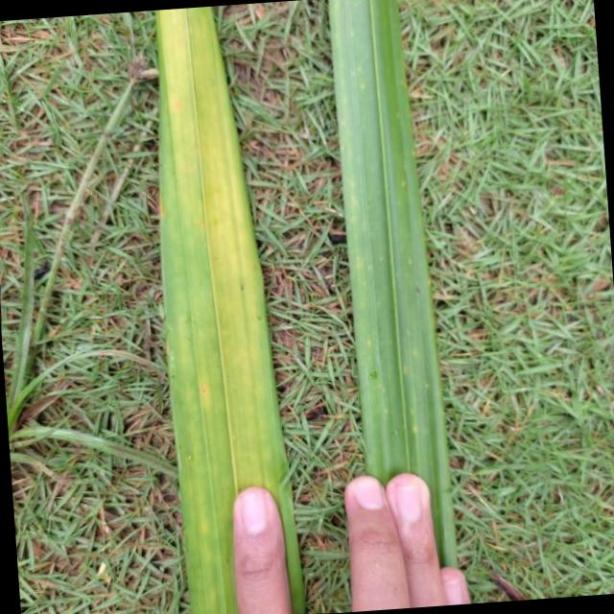nitrogen: (147, 0, 304, 614), (332, 0, 452, 610)
